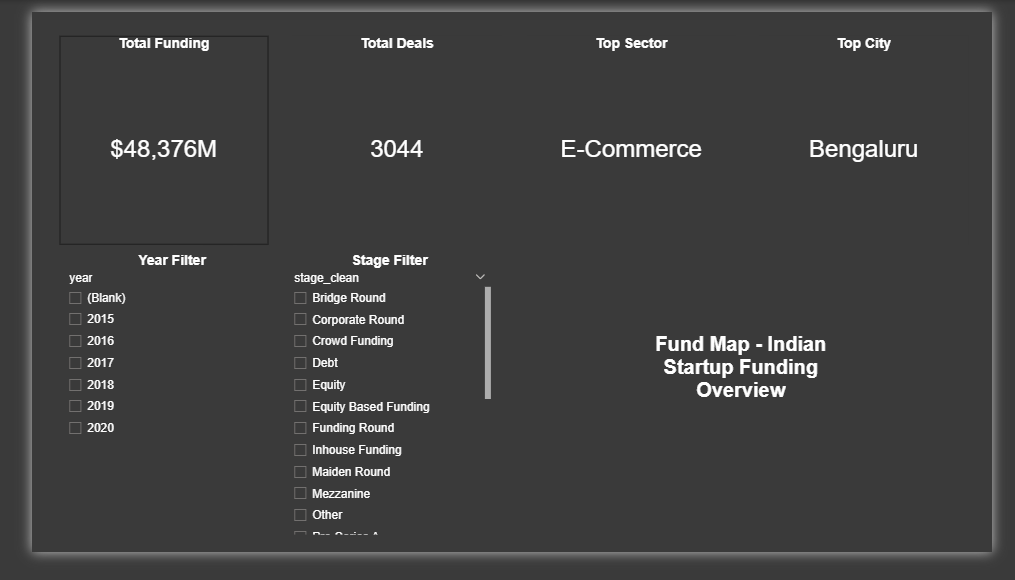

What the dashboard file says about the page in this screenshot:
{"tool":"powerbi","page":{"name":"Overview","canvas":[1280,720],"ordinal":0},"visuals":[{"type":"card","title":"Total Funding","fields":{"Values":["startup_funding_cleaned.Total Funding USD"]},"box":[36.7,31.7,278.3,278.3],"z":0},{"type":"card","title":"Total Deals","fields":{"Values":["startup_funding_cleaned.Total Deals"]},"box":[347.2,31.7,280,278.3],"z":1000},{"type":"card","title":"Top Sector","fields":{"Values":["startup_funding_cleaned.Top Sector Name"]},"box":[659.4,31.7,278.3,278.3],"z":2000},{"type":"card","title":"Top City","fields":{"Values":["startup_funding_cleaned.Top City Name"]},"box":[970,31.7,278.3,278.3],"z":3000},{"type":"slicer","title":"Year Filter","fields":{"Values":["startup_funding_cleaned.year"]},"box":[36.7,320,300,381.7],"z":4000},{"type":"slicer","title":"Stage Filter","fields":{"Values":["startup_funding_cleaned.stage_clean"]},"box":[336.7,320,280,381.7],"z":5000},{"type":"textbox","box":[780,422.5,330,125],"z":6000}]}

Visuals, with their boxes in screenshot pixels (x1, y1, x2, y2), scaled from the page's 1280x720 canvas onto the 1015x580 screenshot:
"Total Funding" card: box=[29, 26, 250, 250]
"Total Deals" card: box=[275, 26, 497, 250]
"Top Sector" card: box=[523, 26, 744, 250]
"Top City" card: box=[769, 26, 990, 250]
"Year Filter" slicer: box=[29, 258, 267, 565]
"Stage Filter" slicer: box=[267, 258, 489, 565]
textbox: box=[619, 340, 880, 441]
